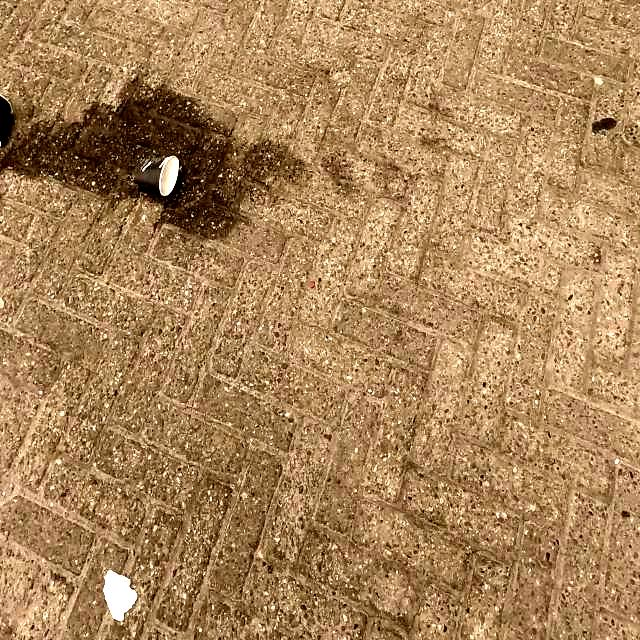Coffee Cup: (132, 152, 180, 200)
